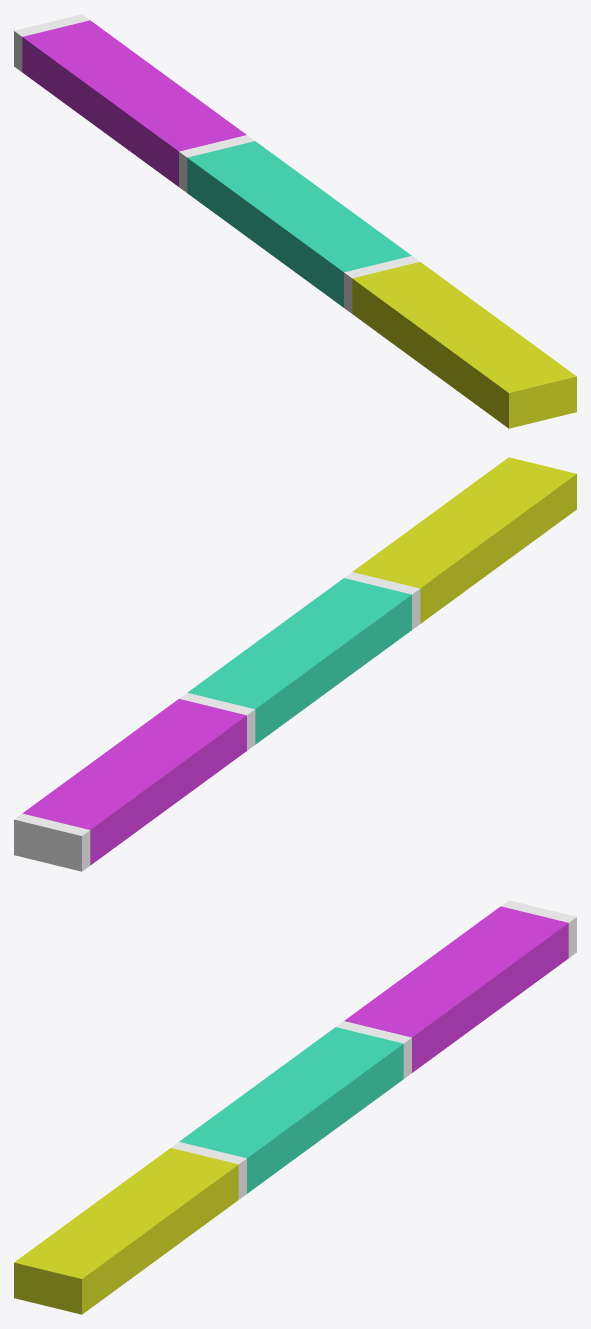
Rendered from Bonus.fbx.
The picture shows the model from 3 angles, top to bottom: view 1: azimuth 30°, elevation 25°; view 2: azimuth 150°, elevation 25°; view 3: azimuth 330°, elevation 25°; orthographic projection.
Visible parts, largest first — view 1: Bonus; view 2: Bonus; view 3: Bonus.
Part boxes in pixels (x1,y1,x2,y2): Bonus: (14, 14, 576, 428); Bonus: (14, 457, 576, 871); Bonus: (14, 900, 576, 1314).
Size of the model in its own units: 1 by 0.5 by 12.6.
